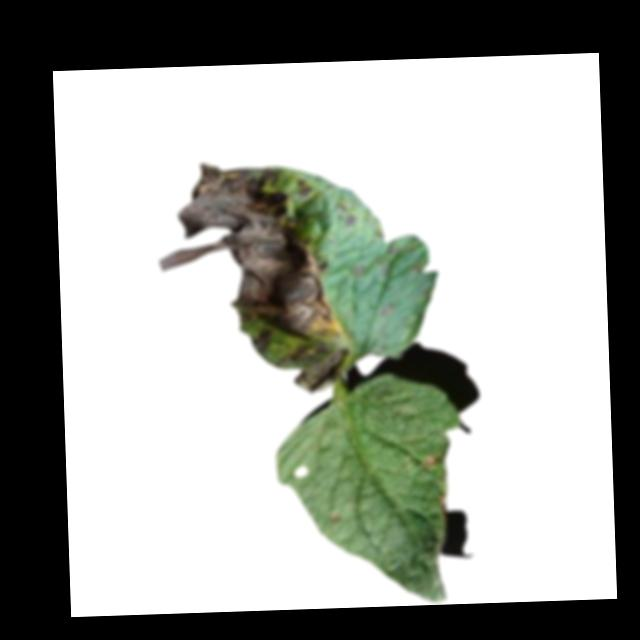Early_blight: (153, 157, 351, 396), (437, 491, 448, 519), (421, 454, 438, 472)
